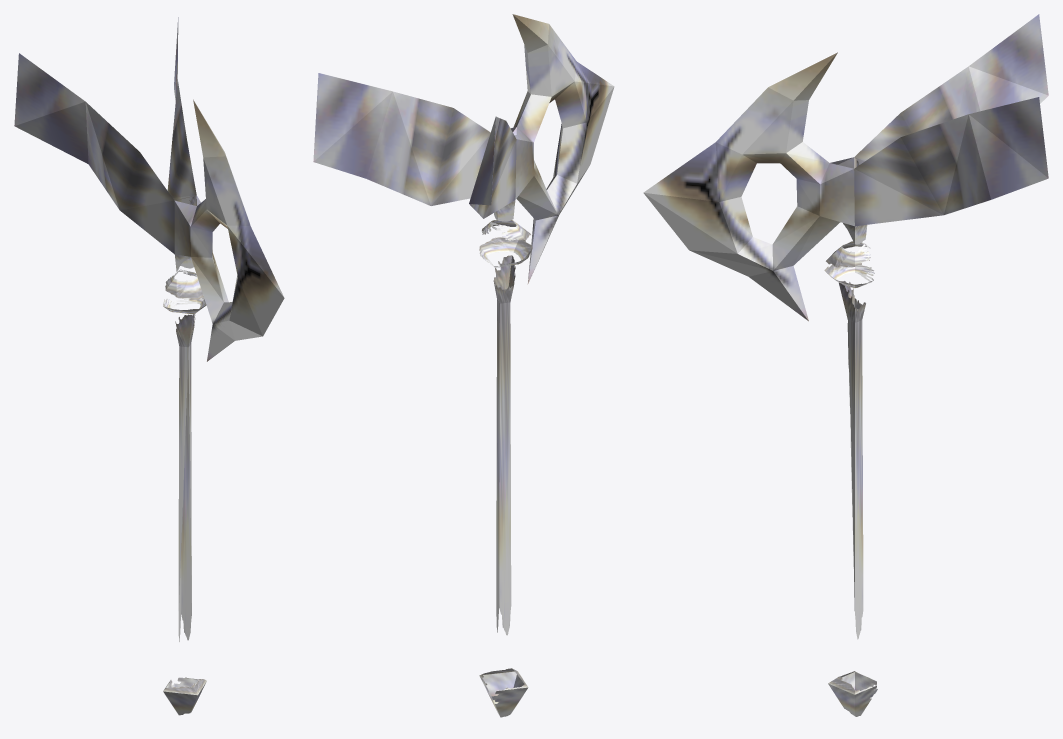
File: heavyaxeman05.obj
The picture shows the model from 3 angles, left to right: view 1: azimuth 30°, elevation 25°; view 2: azimuth 150°, elevation 25°; view 3: azimuth 270°, elevation 25°; orthographic projection. The views are drawn at different scales.
Parts seen in each view (by area): view 1: heavyaxeman05; view 2: heavyaxeman05; view 3: heavyaxeman05.
Boxes of the visible parts, x1=… form: heavyaxeman05: x1=14, y1=17, x2=284, y2=715; heavyaxeman05: x1=313, y1=14, x2=614, y2=717; heavyaxeman05: x1=643, y1=14, x2=1048, y2=716.
Bounding box in the file's own units: 0.6638 × 2.51 × 1.37.
